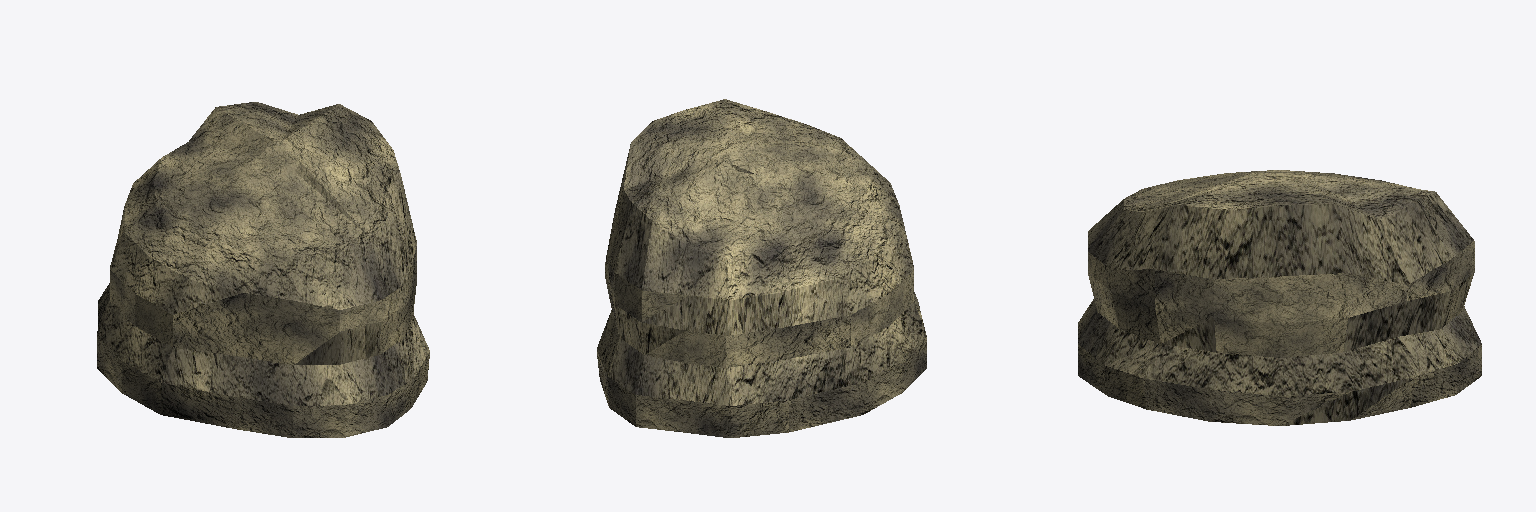
The picture shows the model from 3 angles: view 1: azimuth 30°, elevation 25°; view 2: azimuth 150°, elevation 25°; view 3: azimuth 270°, elevation 25°; orthographic projection.
Parts seen in each view (by area): view 1: Cylinder001; view 2: Cylinder001; view 3: Cylinder001.
Part boxes in pixels (x1,y1,x2,y2): Cylinder001: (97,102,429,437); Cylinder001: (597,99,926,437); Cylinder001: (1078,170,1481,425).
Bounding box in the file's own units: 52.07 × 39.66 × 68.12.
1 materials, 1 textured.